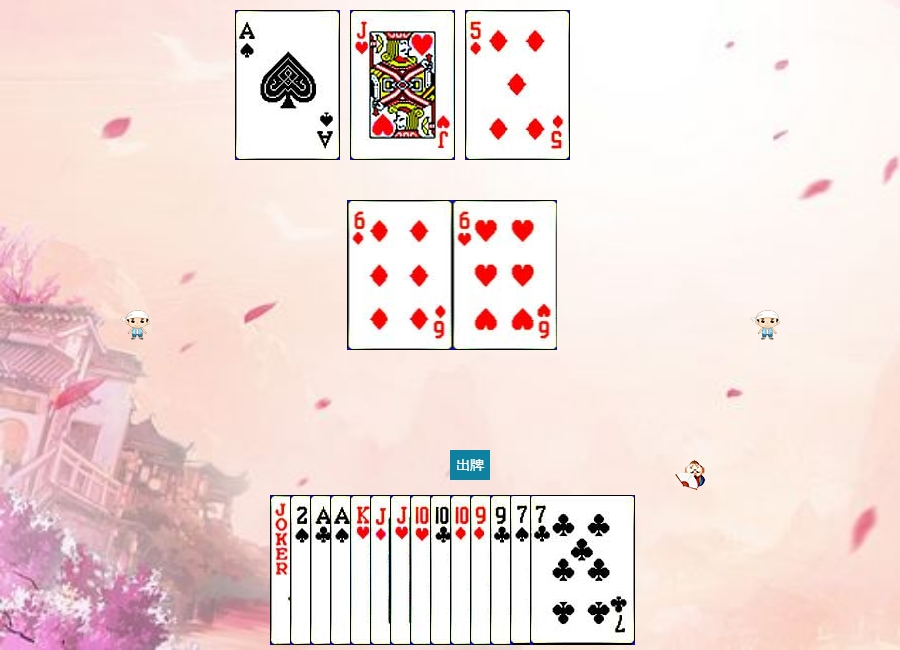10~1: (450, 495, 555, 645)
10~2: (430, 495, 535, 645)
10~3: (410, 495, 515, 645)
11~1: (370, 495, 475, 645)
11~3: (350, 10, 455, 160), (390, 495, 495, 645)
13~3: (350, 495, 455, 645)
14~2: (310, 495, 415, 645)
14~4: (235, 10, 340, 160), (330, 495, 435, 645)
15~4: (290, 495, 395, 645)
18~4: (270, 495, 375, 645)
5~1: (465, 10, 570, 160)
6~1: (348, 200, 453, 350)
6~3: (453, 200, 558, 350)
7~2: (530, 495, 635, 645)
7~4: (510, 495, 615, 645)
9~1: (470, 495, 575, 645)
9~2: (490, 495, 595, 645)
